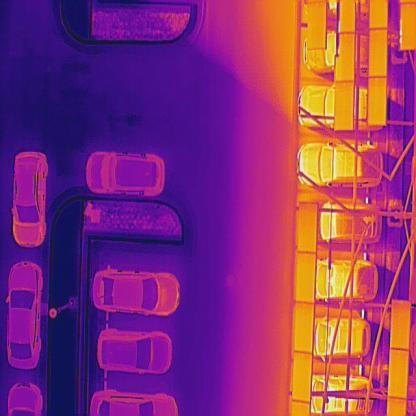Diode: (399, 2, 416, 50)
Normal: (298, 203, 318, 254), (388, 349, 408, 399), (334, 81, 354, 130), (295, 302, 314, 353), (307, 2, 327, 50), (296, 252, 314, 303), (368, 77, 387, 125), (392, 300, 410, 350), (293, 352, 311, 402), (369, 28, 387, 78), (340, 33, 356, 80)
